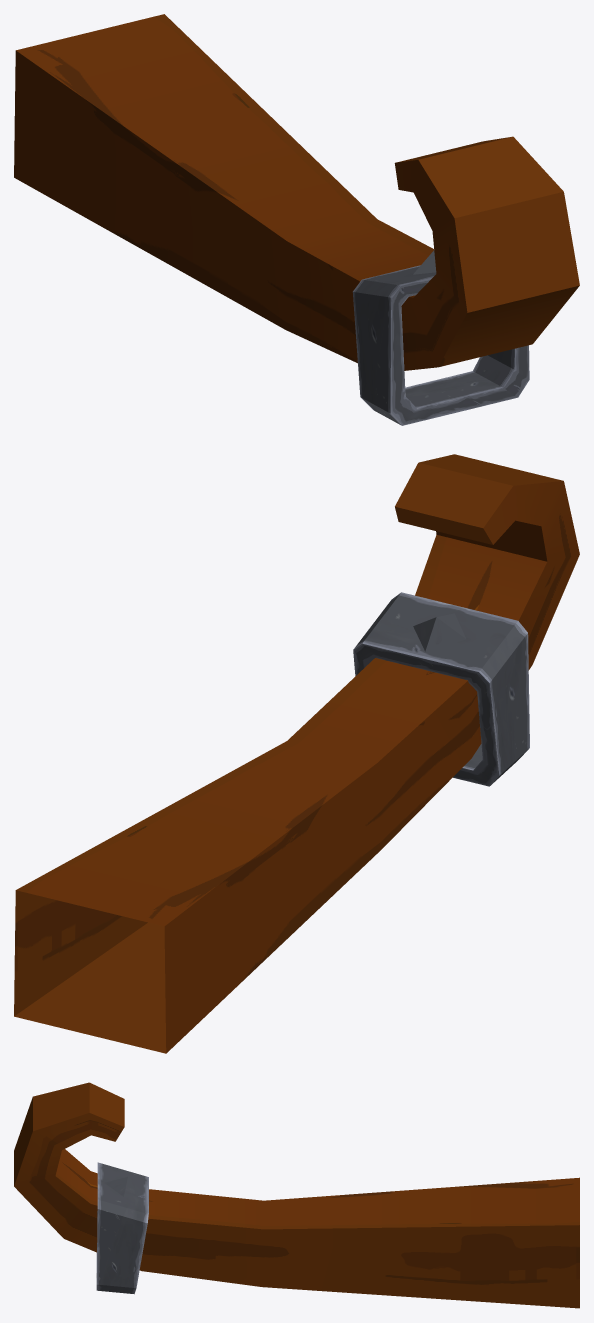
File: SM_BLD_beam_small_v01_01.fbx
3 renders of one model, top to bottom at view 1: azimuth 30°, elevation 25°; view 2: azimuth 150°, elevation 25°; view 3: azimuth 270°, elevation 25°, orthographic. The views are drawn at different scales.
Parts seen in each view (by area): view 1: SM_BLD_beam_small_v01_01; view 2: SM_BLD_beam_small_v01_01; view 3: SM_BLD_beam_small_v01_01.
Part boxes in pixels (x1=…): SM_BLD_beam_small_v01_01: x1=14, y1=14, x2=579, y2=425; SM_BLD_beam_small_v01_01: x1=14, y1=454, x2=579, y2=1053; SM_BLD_beam_small_v01_01: x1=14, y1=1082, x2=579, y2=1308.
Size of the model in its own units: 58.24 by 105 by 287.
